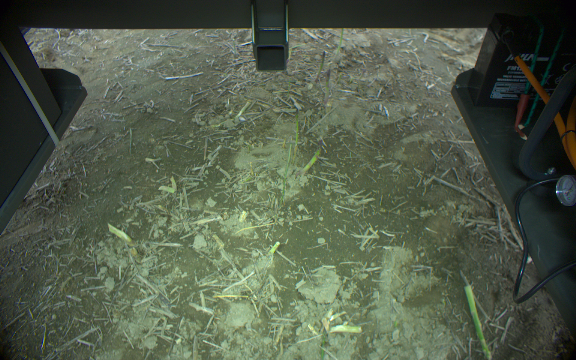aspa: (463, 283, 495, 360), (299, 138, 323, 176), (328, 321, 363, 336), (322, 68, 333, 108), (314, 49, 324, 82), (337, 27, 346, 52), (268, 241, 280, 255)
